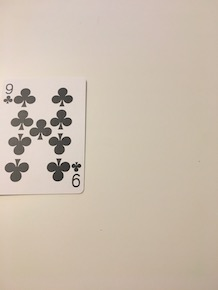NineOfClubs: (1, 75, 90, 200)
